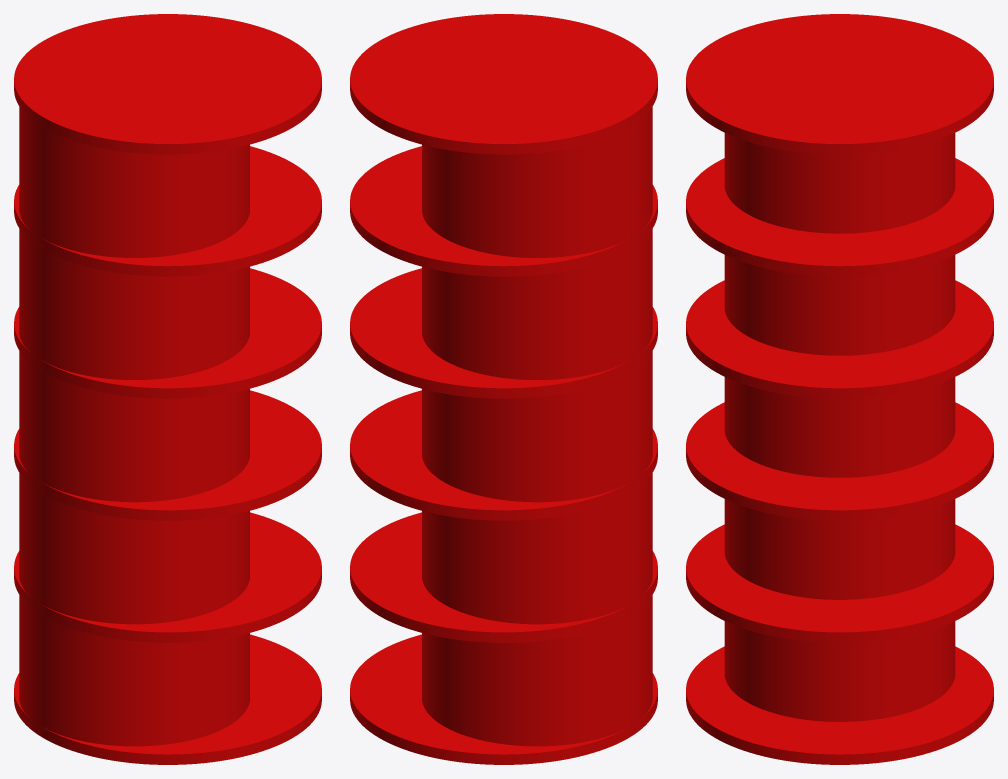
3 views of the same model, side by side, from view 1: azimuth 30°, elevation 25°; view 2: azimuth 150°, elevation 25°; view 3: azimuth 270°, elevation 25° (orthographic).
Size of the model in its own units: 8 by 17.8 by 8.
